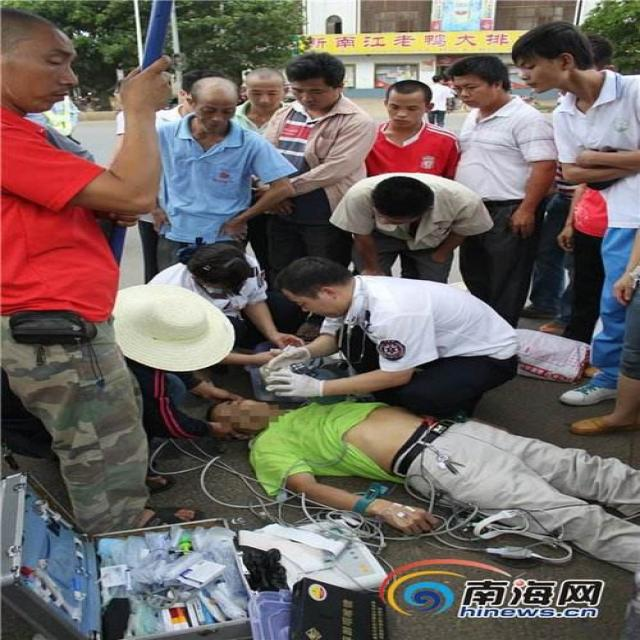10-: (5, 12, 639, 529)
down: (196, 376, 639, 558)
